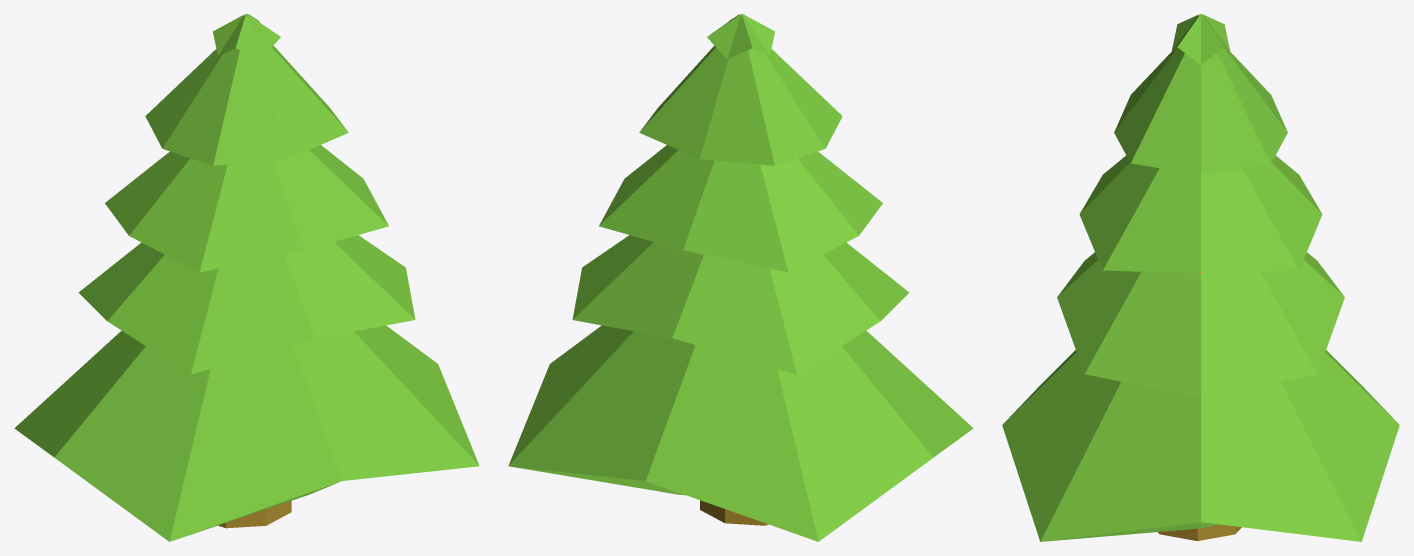
File: Pino.fbx
3 renders of one model, left to right at view 1: azimuth 30°, elevation 25°; view 2: azimuth 150°, elevation 25°; view 3: azimuth 270°, elevation 25°, orthographic. The views are drawn at different scales.
Parts seen in each view (by area): view 1: Pino; view 2: Pino; view 3: Pino.
Part boxes in pixels (x1=…): Pino: x1=14, y1=14, x2=479, y2=541; Pino: x1=508, y1=14, x2=973, y2=541; Pino: x1=1002, y1=14, x2=1399, y2=541.
Size of the model in its own units: 64.14 by 78.03 by 55.57.
Materials: 1 (1 with a texture image).
